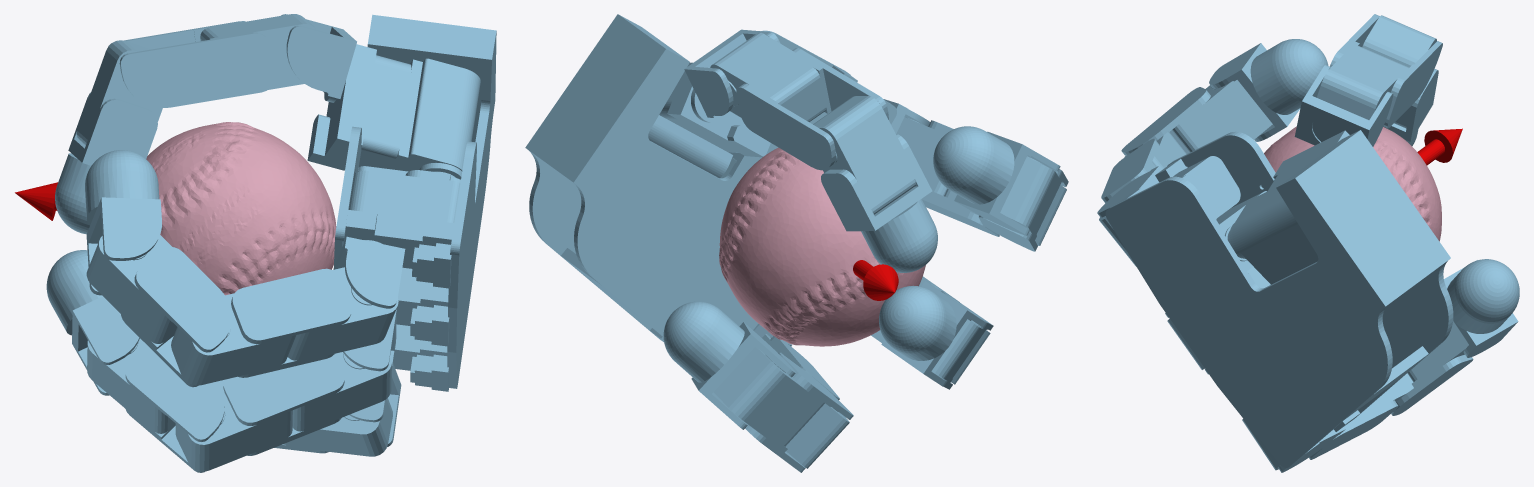
3 views of the same model, side by side, from view 1: azimuth 30°, elevation 25°; view 2: azimuth 150°, elevation 25°; view 3: azimuth 270°, elevation 25° (orthographic). The views are drawn at different scales.
Visible parts, largest first — view 1: world, baseball.stl; view 2: world, baseball.stl; view 3: world, baseball.stl.
Boxes of the visible parts, x1=… form: world: x1=15, y1=14, x2=496, y2=472; baseball.stl: x1=146, y1=122, x2=336, y2=295; world: x1=525, y1=14, x2=1068, y2=472; baseball.stl: x1=719, y1=147, x2=925, y2=346; world: x1=1097, y1=14, x2=1519, y2=472; baseball.stl: x1=1264, y1=126, x2=1441, y2=241.
Size of the model in its own units: 0.1805 by 0.1532 by 0.1522.
